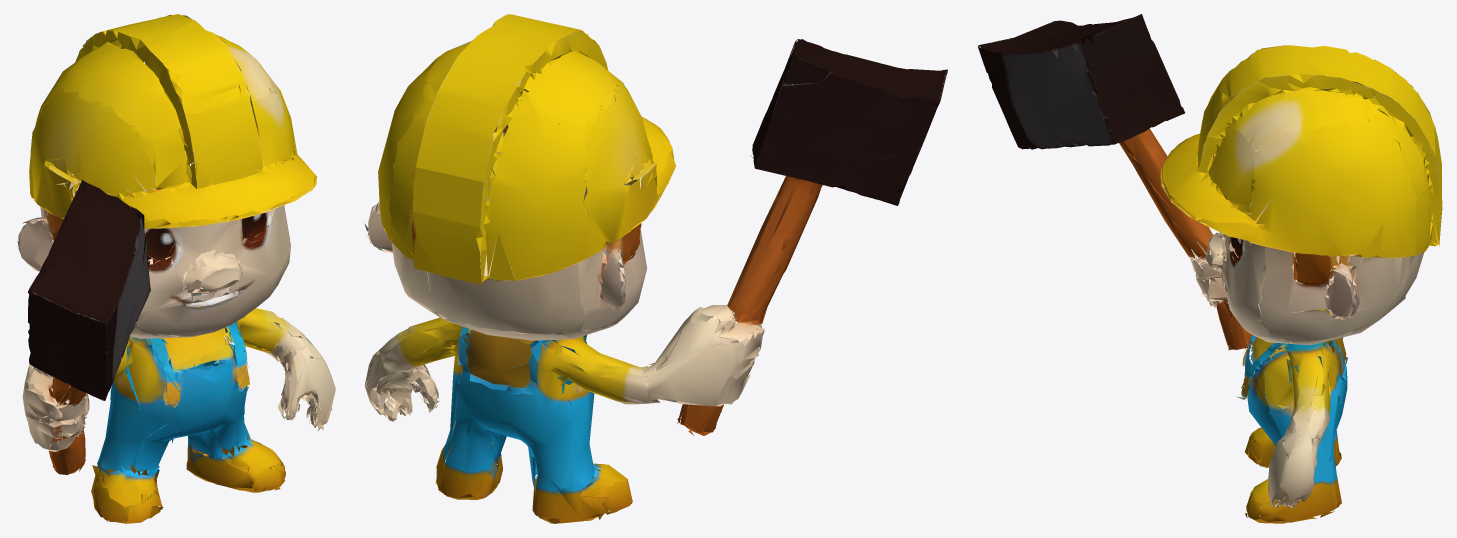
Rendered from builder.glb.
3 views of the same model, side by side, from view 1: azimuth 30°, elevation 25°; view 2: azimuth 150°, elevation 25°; view 3: azimuth 270°, elevation 25° (orthographic). The views are drawn at different scales.
Visible parts, largest first — view 1: builder_character; view 2: builder_character; view 3: builder_character.
Boxes of the visible parts, x1=… form: builder_character: x1=17, y1=14, x2=335, y2=523; builder_character: x1=364, y1=14, x2=947, y2=523; builder_character: x1=977, y1=14, x2=1442, y2=523.
Bounding box in the file's own units: 1.25 × 1.26 × 1.25.
1 material, 1 textured.
